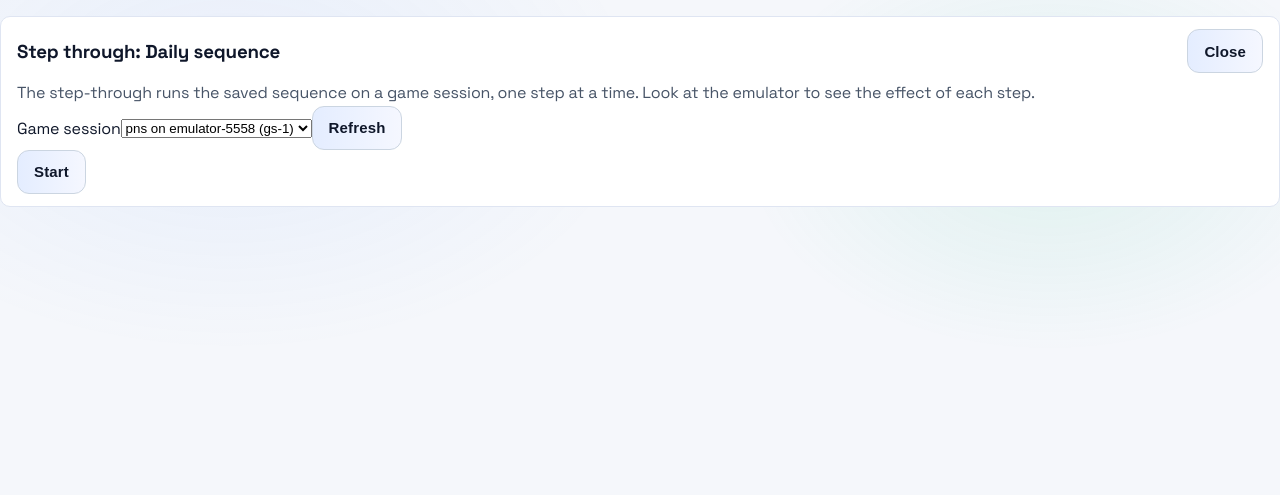
Scenario: StepThroughPanel manual selection › blocks selection while a step runs
Click the button "Start": (51, 172) [17,150,86,194]
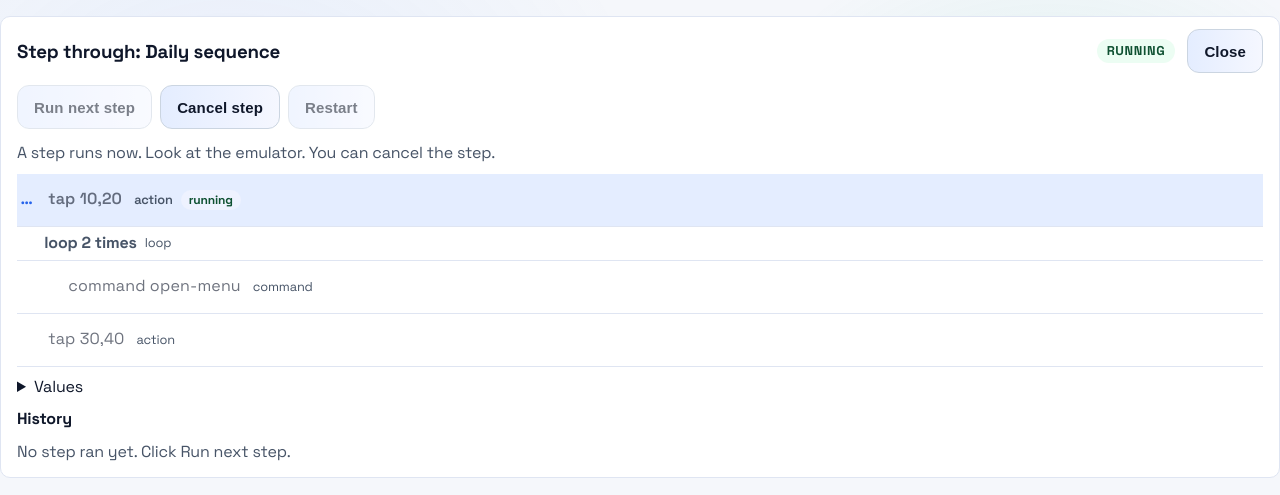
Expected: the list named "Steps" is shown, [17,174,1263,367]
Expected: the button "tap 30,40" is disabled, [44,318,128,362]
